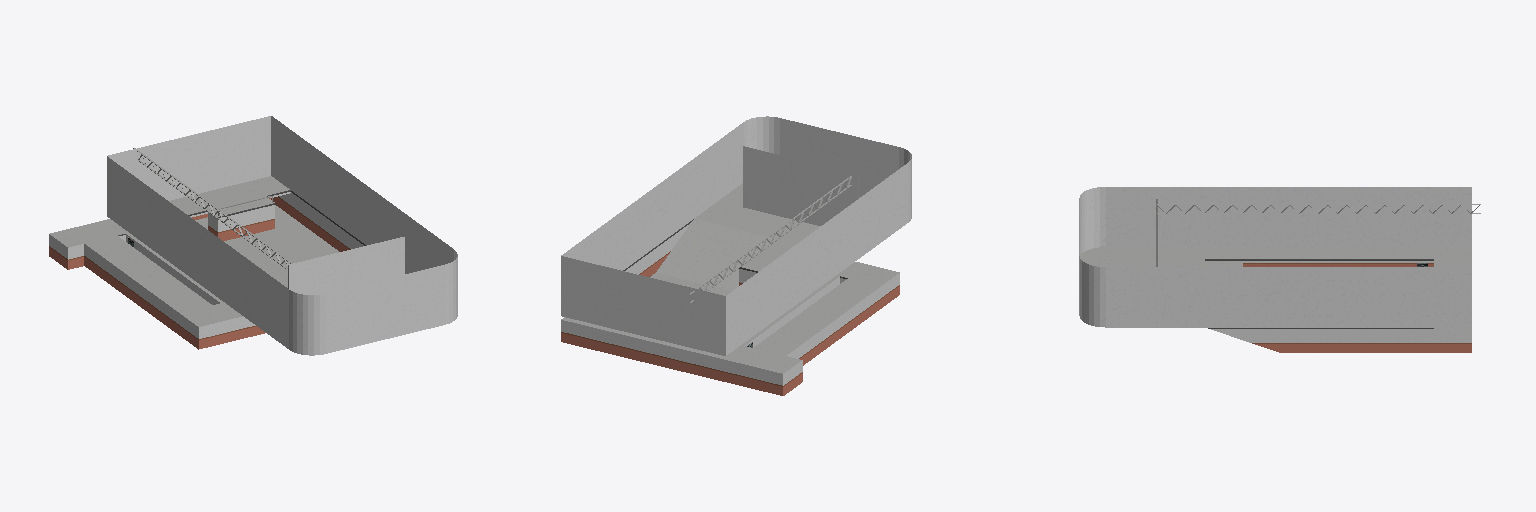
The picture shows the model from 3 angles: view 1: azimuth 30°, elevation 25°; view 2: azimuth 150°, elevation 25°; view 3: azimuth 270°, elevation 25°; orthographic projection.
Parts seen in each view (by area): view 1: Plane, Cube.001; view 2: Plane, Cube.001; view 3: Plane, Cube.001.
Boxes of the visible parts, <box> form: Plane: <box>49,116,457,355</box>; Cube.001: <box>133,148,292,269</box>; Plane: <box>561,116,911,395</box>; Cube.001: <box>689,176,851,302</box>; Plane: <box>1079,187,1471,352</box>; Cube.001: <box>1157,204,1480,213</box>.
Bounding box in the file's own units: 27 × 10 × 42.14.
Materials: 1 (1 with a texture image).